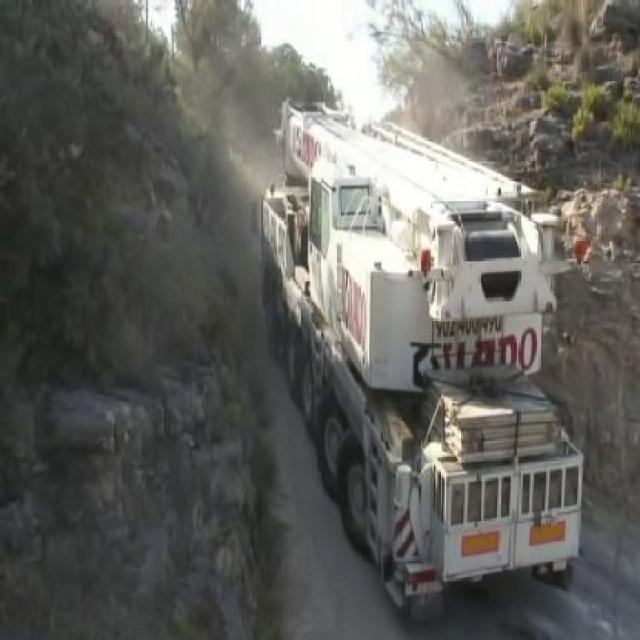Mobile Crane: (255, 100, 588, 620)
